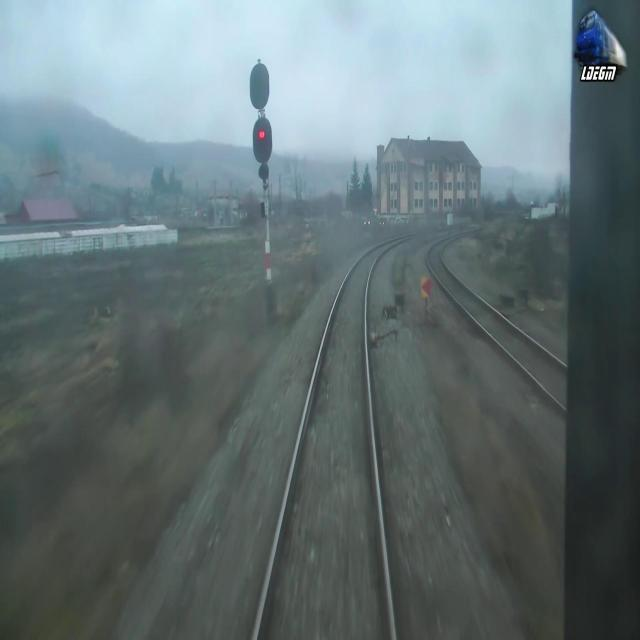rail-track: (256, 235, 417, 639), (428, 229, 567, 405)
